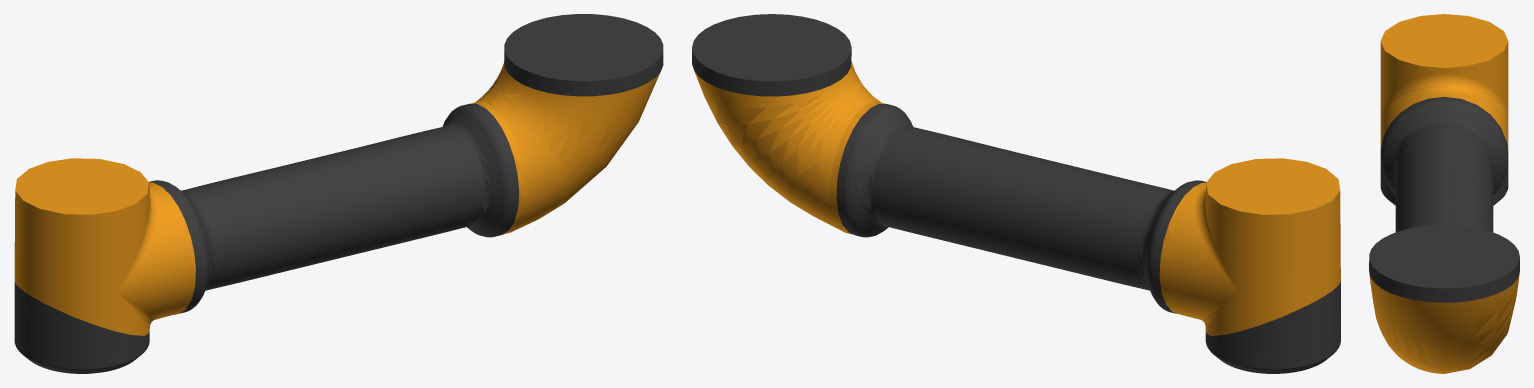
File: fore_arm_link.dae
The picture shows the model from 3 angles, left to right: view 1: azimuth 30°, elevation 25°; view 2: azimuth 150°, elevation 25°; view 3: azimuth 270°, elevation 25°; orthographic projection. The views are drawn at different scales.
Parts seen in each view (by area): view 1: ??--??1.004, ??--??1.002, ??--??1, ??--??1.003, ??--??1.001; view 2: ??--??1.004, ??--??1.002, ??--??1, ??--??1.003, ??--??1.001; view 3: ??--??1.004, ??--??1.002, ??--??1.003, ??--??1, ??--??1.001.
Part boxes in pixels (box(x1,y1,x2,y2)): ??--??1.004: box(149, 103, 519, 313); ??--??1.002: box(14, 158, 195, 335); ??--??1: box(469, 61, 660, 234); ??--??1.003: box(504, 14, 663, 96); ??--??1.001: box(14, 282, 149, 373); ??--??1.004: box(836, 104, 1206, 313); ??--??1.002: box(1159, 158, 1340, 335); ??--??1: box(694, 61, 885, 234); ??--??1.003: box(692, 14, 851, 96); ??--??1.001: box(1205, 282, 1340, 373); ??--??1.004: box(1380, 96, 1508, 232); ??--??1.002: box(1380, 14, 1508, 151); ??--??1.003: box(1369, 224, 1519, 302); ??--??1: box(1369, 273, 1519, 373); ??--??1.001: box(1380, 163, 1508, 205).
Bounding box in the file's own units: 0.478 × 0.105 × 0.1303.
